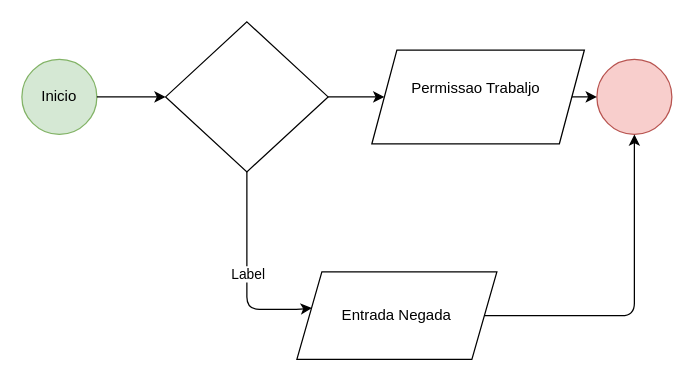
This 694x381 diagram has some shape labels left out. The centre of each missing label's shape, as x and y in pixels:
"Fim" goes at point (634, 96).
"Idade >= Maioridade" goes at point (246, 96).
